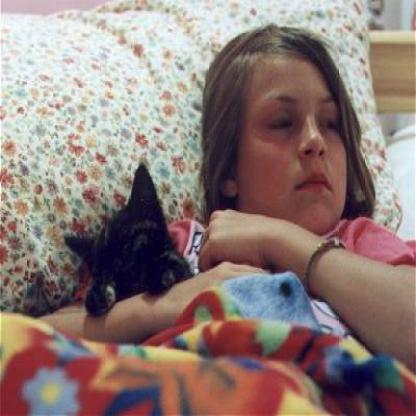cat: (51, 148, 208, 324)
